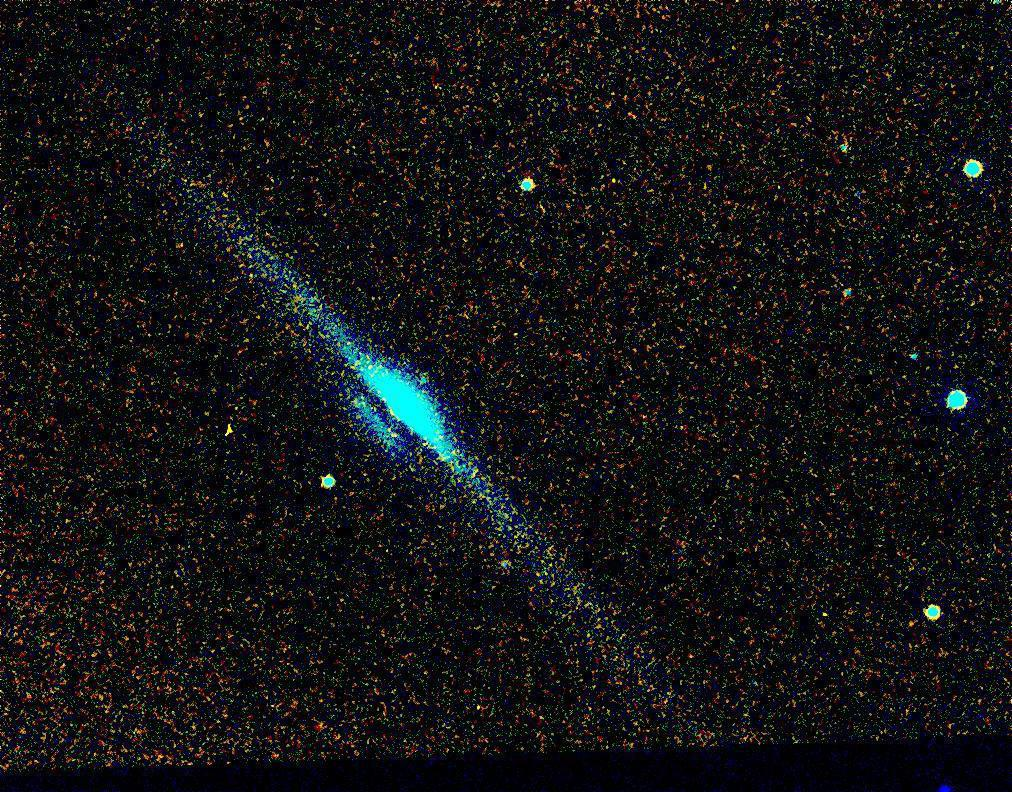star: (213, 413, 243, 443)
